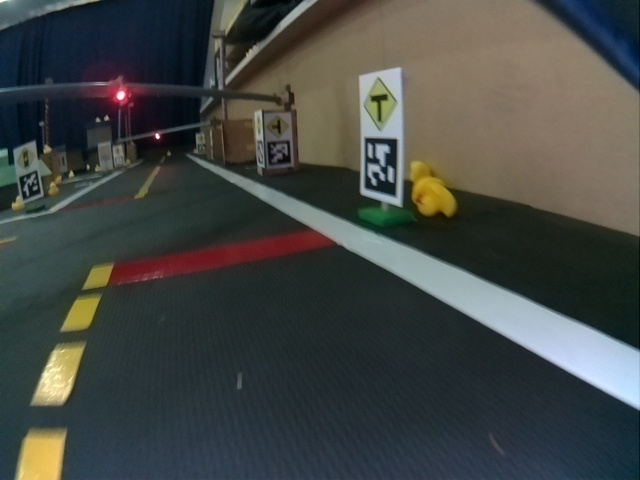Duckie: (416, 183, 457, 216), (48, 184, 58, 195), (12, 198, 22, 209), (43, 146, 52, 154)
Intersection sign: (364, 77, 397, 128), (267, 115, 288, 137)
QR code: (361, 137, 396, 197), (268, 141, 291, 167), (18, 174, 40, 201)
Signal sign: (17, 147, 35, 171)
Traffic light: (109, 76, 130, 106)
